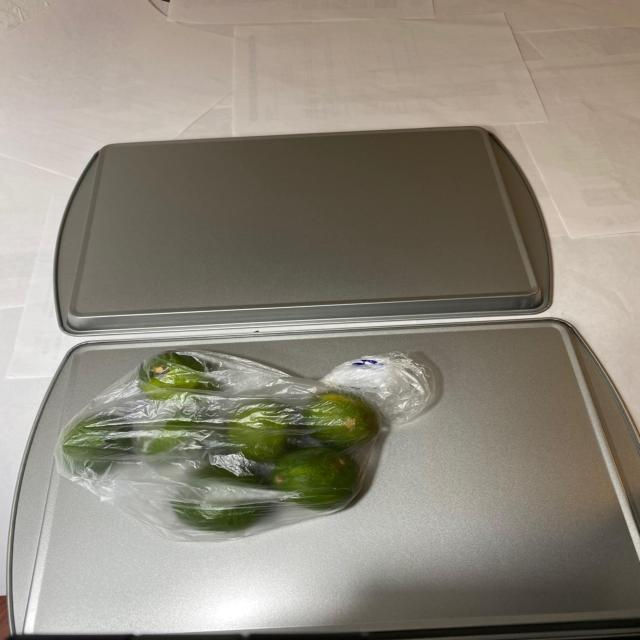lemon: (58, 356, 400, 530)
